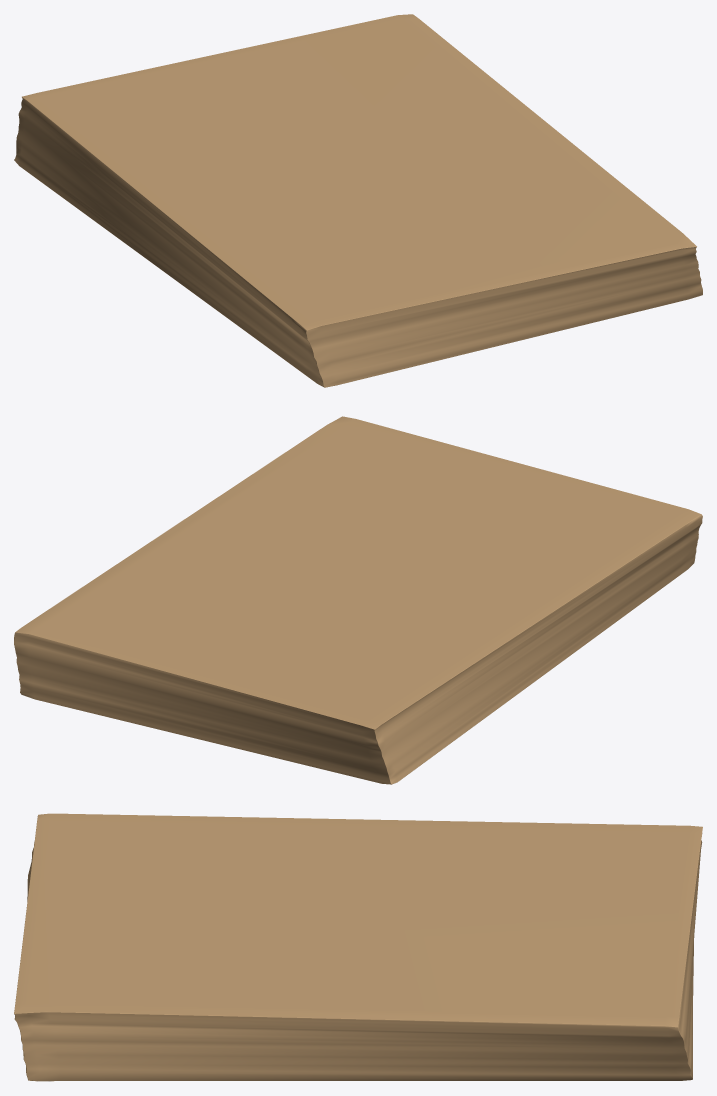
The model's file is paper_stack_a01.glb.
3 renders of one model, top to bottom at view 1: azimuth 30°, elevation 25°; view 2: azimuth 150°, elevation 25°; view 3: azimuth 270°, elevation 25°, orthographic. The views are drawn at different scales.
Bounding box in the file's own units: 0.2247 × 0.0316 × 0.3081.
